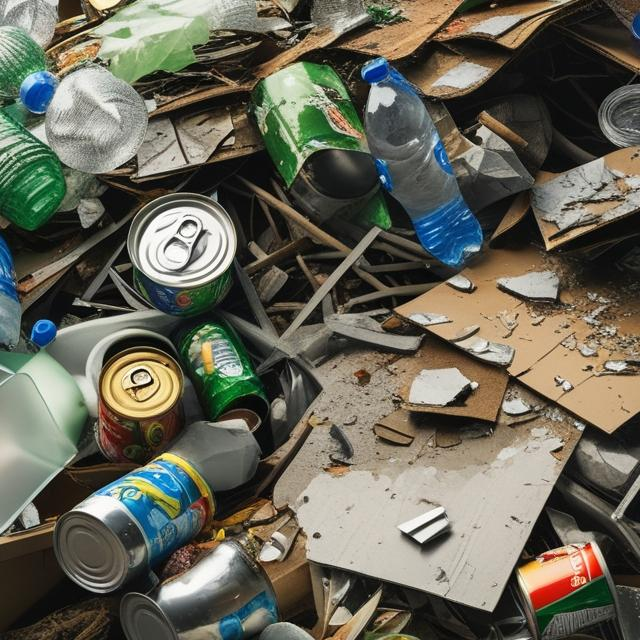metal: (123, 196, 235, 292)
plastic: (358, 58, 487, 266)
